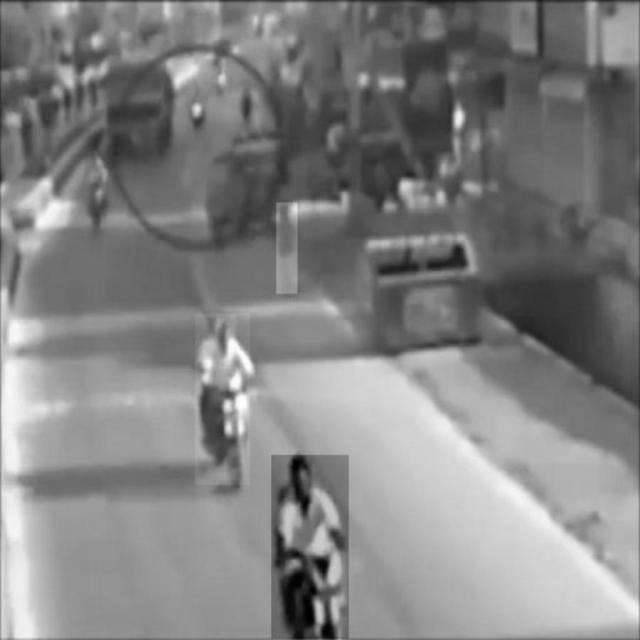person: (276, 203, 296, 294)
vehicle: (272, 455, 349, 639), (195, 314, 251, 484), (108, 64, 172, 164)
